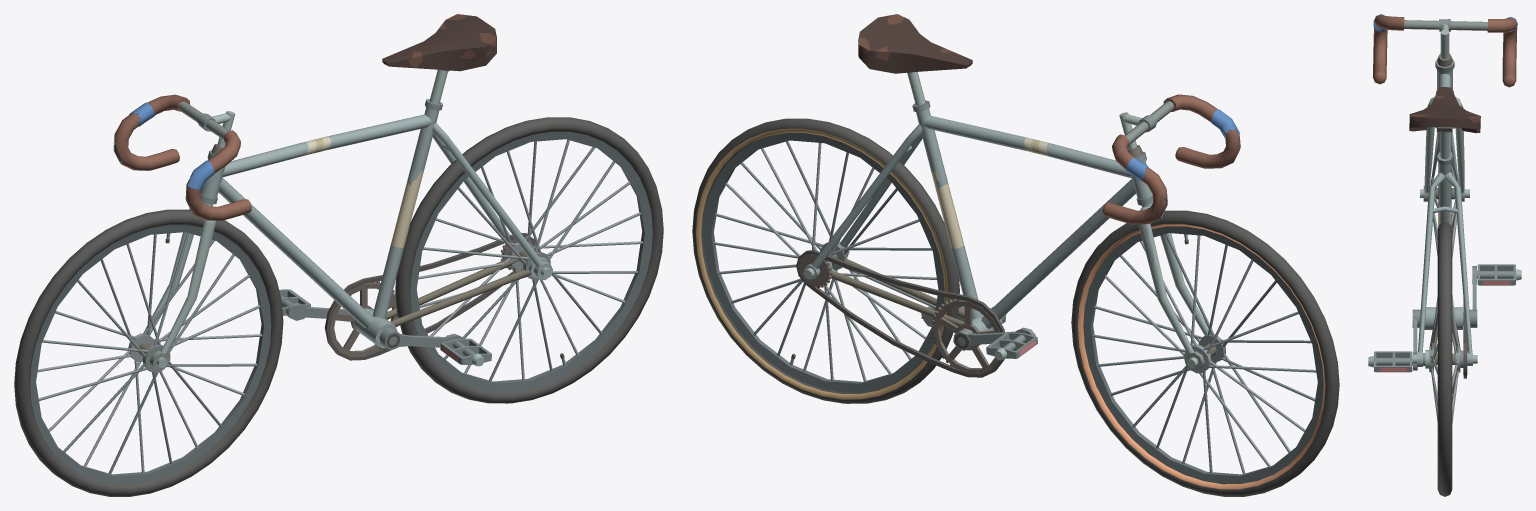
File: Bicycle.fbx
The picture shows the model from 3 angles, left to right: view 1: azimuth 30°, elevation 25°; view 2: azimuth 150°, elevation 25°; view 3: azimuth 270°, elevation 25°; orthographic projection. The views are drawn at different scales.
Visible parts, largest first — view 1: pCylinder83, pCylinder102, pCylinder101, pCylinder115, polySurface124, polySurface117, pCylinder118, polySurface119, polySurface133, polySurface122, pCylinder96, pCylinder95 (+8 smaller); view 2: pCylinder83, pCylinder102, pCylinder101, pCylinder115, polySurface124, polySurface133, pCylinder118, polySurface117, polySurface119, polySurface122, pCylinder95, pCylinder96 (+7 smaller); view 3: pCylinder102, polySurface124, pCylinder104, pCylinder118, polySurface120, polySurface121, pCylinder100, pCylinder93, pCylinder96, polySurface122, polySurface119, polySurface133 (+6 smaller).
Part boxes in pixels (box(x1,y1,x2,y2)): pCylinder83: box(14, 209, 283, 496); pCylinder102: box(395, 117, 663, 403); pCylinder101: box(410, 131, 652, 391); pCylinder115: box(30, 225, 271, 484); polySurface124: box(113, 94, 251, 220); polySurface117: box(38, 232, 260, 474); pCylinder118: box(382, 14, 496, 71); polySurface119: box(419, 139, 641, 381); polySurface133: box(37, 234, 262, 473); polySurface122: box(418, 141, 642, 380); pCylinder96: box(373, 107, 439, 318); pCylinder95: box(222, 114, 432, 176); pCylinder83: box(1071, 210, 1339, 496); pCylinder102: box(692, 118, 959, 403); pCylinder101: box(703, 133, 944, 392); pCylinder115: box(1083, 226, 1323, 484); polySurface124: box(1102, 94, 1240, 224); polySurface133: box(1092, 235, 1316, 473); pCylinder118: box(858, 14, 972, 73); polySurface117: box(1094, 233, 1315, 474); polySurface119: box(714, 141, 935, 382); polySurface122: box(713, 142, 936, 380); pCylinder95: box(922, 116, 1131, 178); pCylinder96: box(916, 109, 981, 319); pCylinder102: box(1437, 222, 1452, 496); polySurface124: box(1373, 14, 1517, 87); pCylinder104: box(1418, 172, 1472, 353); pCylinder118: box(1409, 87, 1480, 133); polySurface120: box(1469, 264, 1521, 327); polySurface121: box(1368, 309, 1420, 372); pCylinder100: box(1424, 97, 1464, 192); pCylinder93: box(1404, 20, 1487, 30); pCylinder96: box(1438, 163, 1451, 225); polySurface122: box(1452, 295, 1460, 423); polySurface119: box(1429, 297, 1437, 421); polySurface133: box(1451, 129, 1458, 257).
Size of the model in its own units: 18.48 by 10.6 by 4.25.
